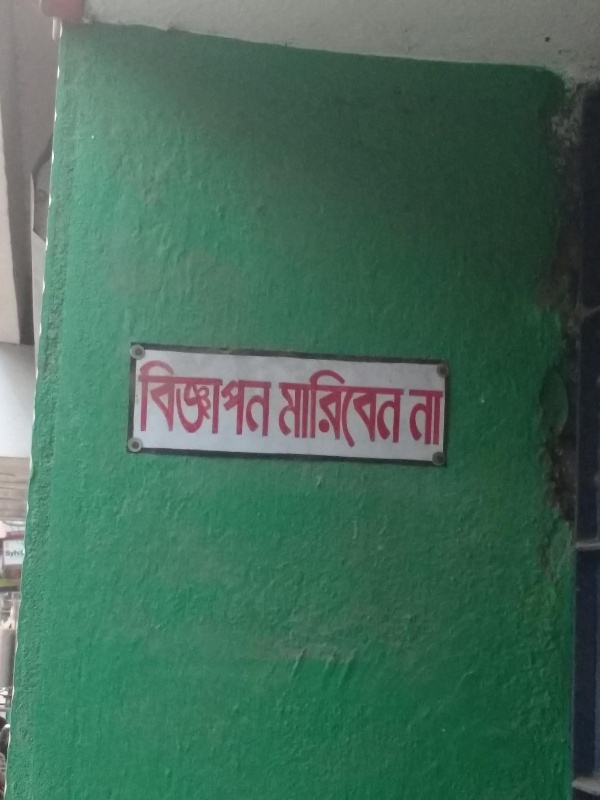text: (289, 361, 304, 451), (305, 361, 320, 451), (321, 361, 336, 451), (337, 361, 352, 451), (353, 361, 368, 451), (369, 361, 384, 451), (385, 361, 400, 451), (145, 356, 160, 439), (161, 356, 176, 439), (177, 356, 192, 439), (193, 356, 208, 439), (209, 356, 224, 439), (225, 356, 240, 439), (241, 356, 256, 439), (257, 356, 272, 439), (417, 386, 432, 447), (433, 386, 444, 447), (282, 361, 288, 451), (138, 356, 144, 439), (408, 386, 416, 447), (401, 361, 406, 451), (273, 356, 276, 439)
